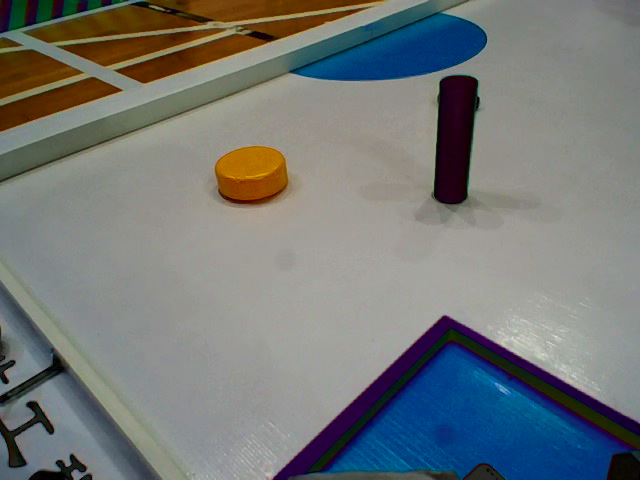kuang: (255, 313, 640, 480)
yellow: (212, 144, 293, 195)
zhuzi: (429, 74, 478, 212)
